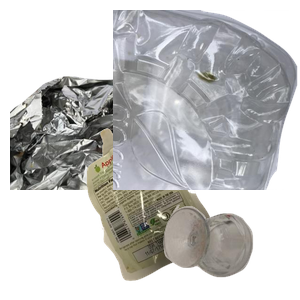glass: (161, 202, 300, 300)
metal: (10, 73, 212, 253)
plastic: (113, 10, 300, 190)
trash: (84, 126, 291, 300)
